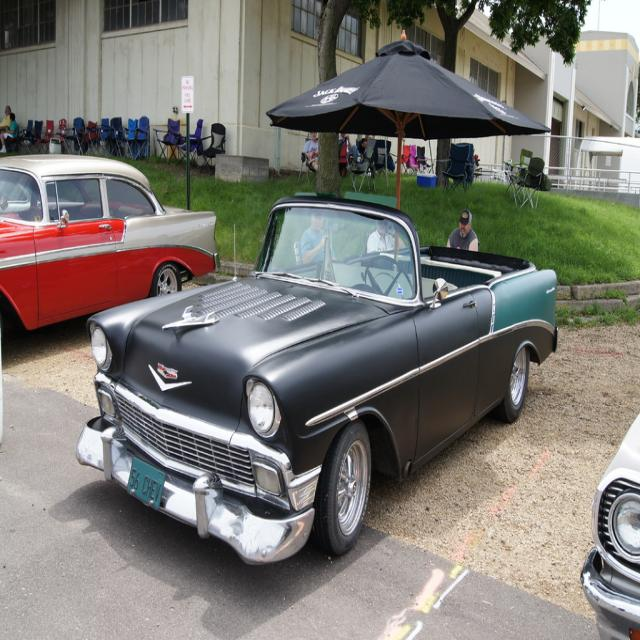other: (74, 195, 557, 563), (0, 151, 222, 334), (579, 410, 639, 639)
